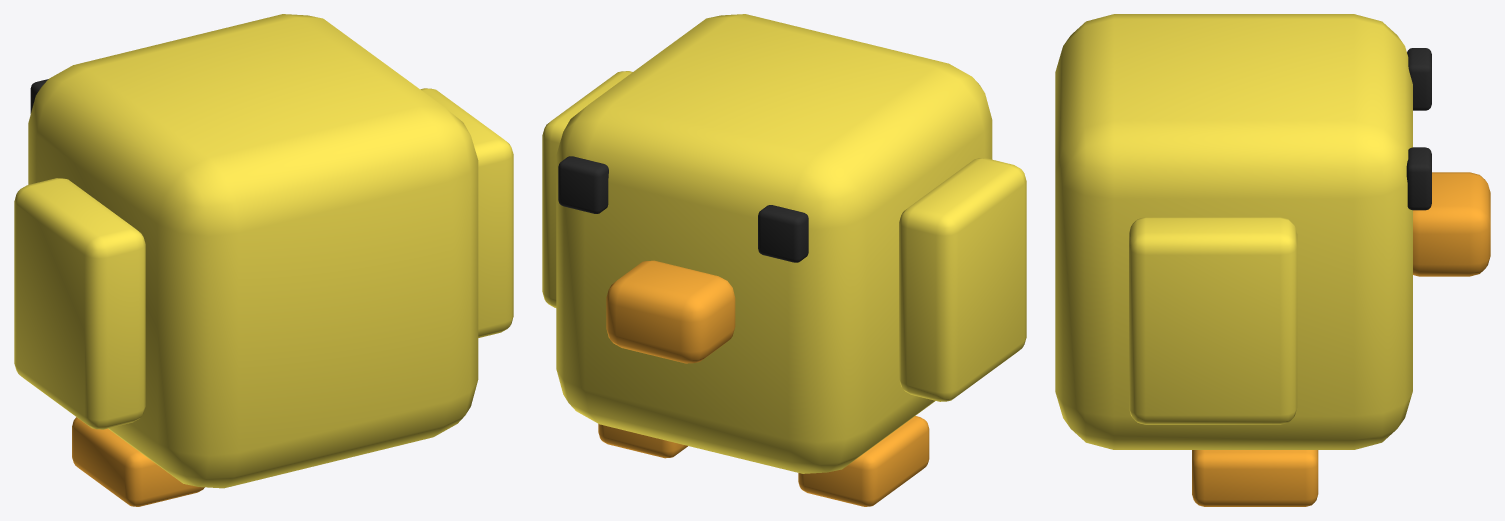
File: Duck.fbx
3 renders of one model, left to right at view 1: azimuth 30°, elevation 25°; view 2: azimuth 150°, elevation 25°; view 3: azimuth 270°, elevation 25°, orthographic. The views are drawn at different scales.
Visible parts, largest first — view 1: Duck_Body, Duck_Wing_-1, Duck_Wing_1, Duck_Foot_-1; view 2: Duck_Body, Duck_Wing_-1, Duck_Beak, Duck_Foot_-1, Duck_Wing_1, Duck_Eye_1, Duck_Eye_-1, Duck_Foot_1; view 3: Duck_Body, Duck_Wing_1, Duck_Beak, Duck_Foot_1, Duck_Eye_1, Duck_Eye_-1.
Boxes of the visible parts, x1,y1,x2,y2 form: Duck_Body: (28,14,478,488); Duck_Wing_-1: (14,178,145,429); Duck_Wing_1: (420,88,513,337); Duck_Foot_-1: (72,417,204,506); Duck_Body: (556,14,992,473); Duck_Wing_-1: (899,158,1026,401); Duck_Beak: (606,260,735,363); Duck_Foot_-1: (798,416,929,506); Duck_Wing_1: (542,71,632,307); Duck_Eye_1: (558,156,608,213); Duck_Eye_-1: (758,205,808,262); Duck_Foot_1: (598,424,687,458); Duck_Body: (1055,14,1412,449); Duck_Wing_1: (1129,217,1297,424); Duck_Beak: (1413,172,1490,276); Duck_Foot_1: (1192,450,1318,506); Duck_Eye_1: (1406,147,1431,210); Duck_Eye_-1: (1407,48,1431,110).
Bounding box in the file's own units: 116 × 97.5 × 104.
